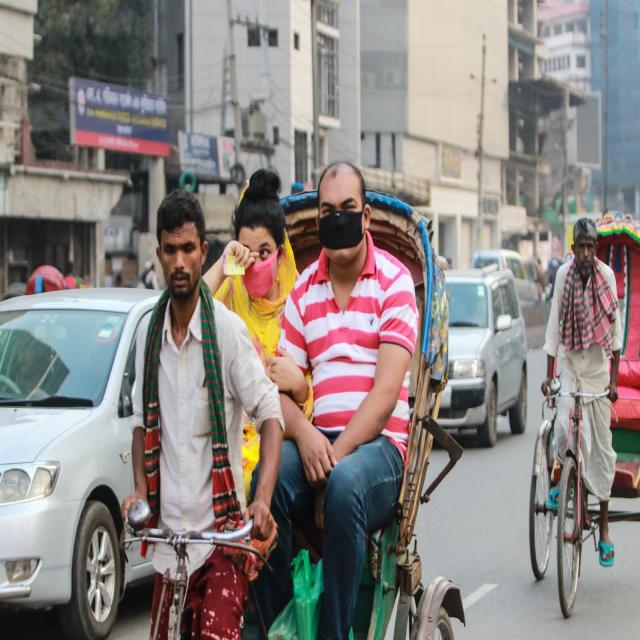mask: (322, 199, 372, 272), (236, 243, 284, 301)
